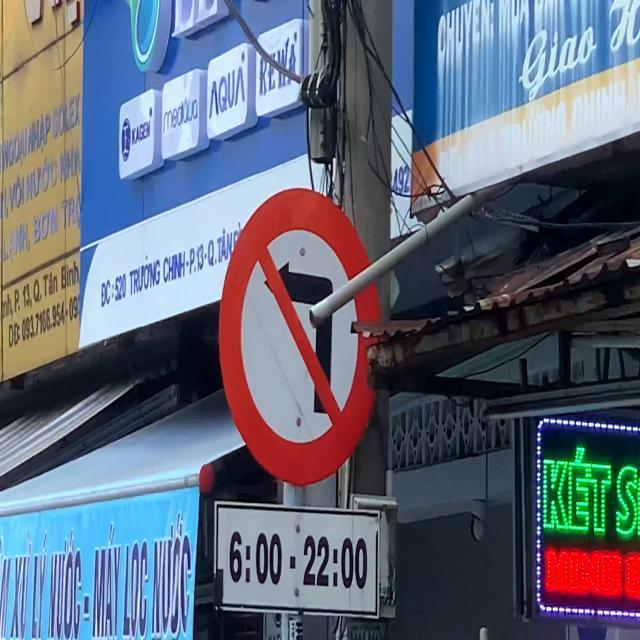123a-cam-re-trai: (220, 190, 382, 486)
